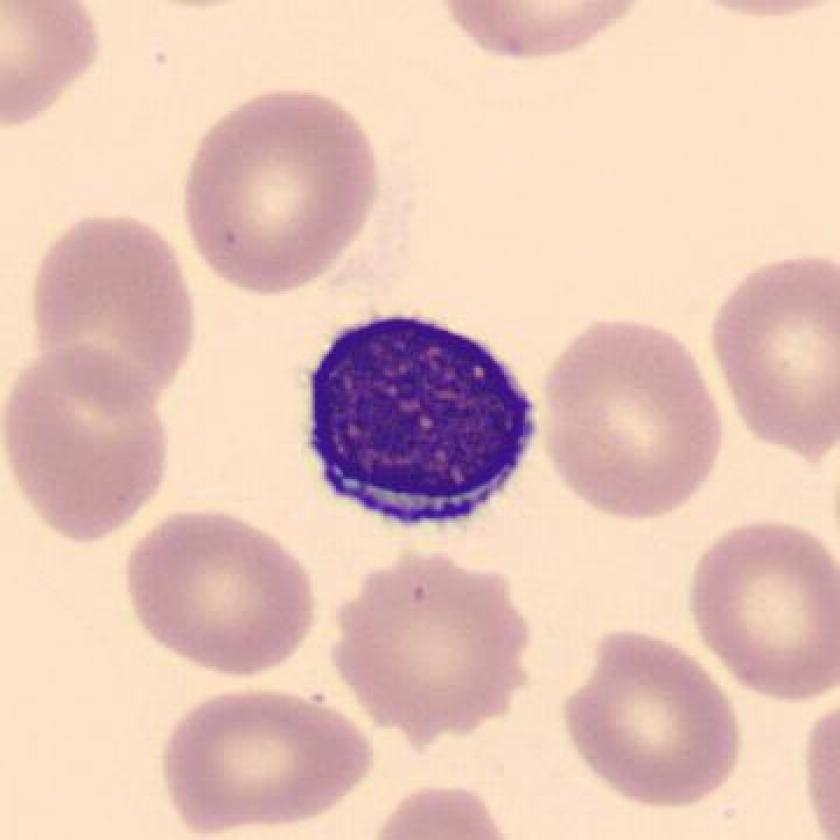lymphocyte: (288, 302, 552, 547)
